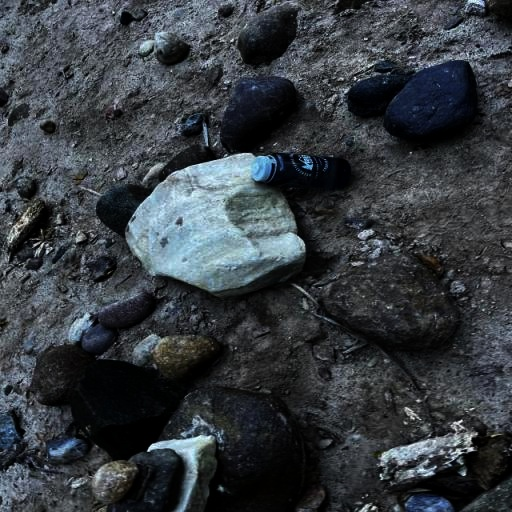bottle: (250, 151, 352, 191)
